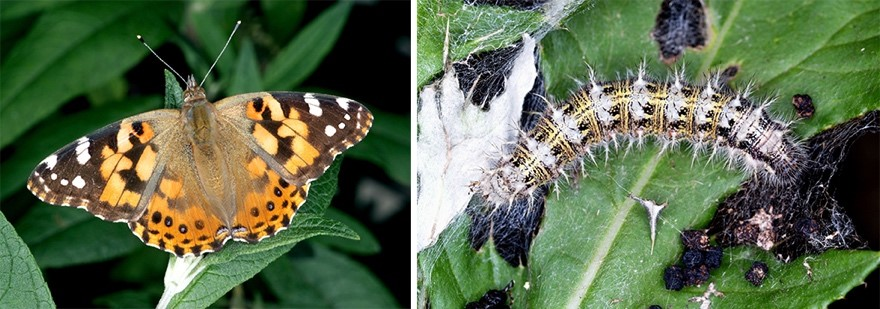Butterfly: (26, 17, 375, 260)
Caterpillar: (464, 68, 811, 241)
